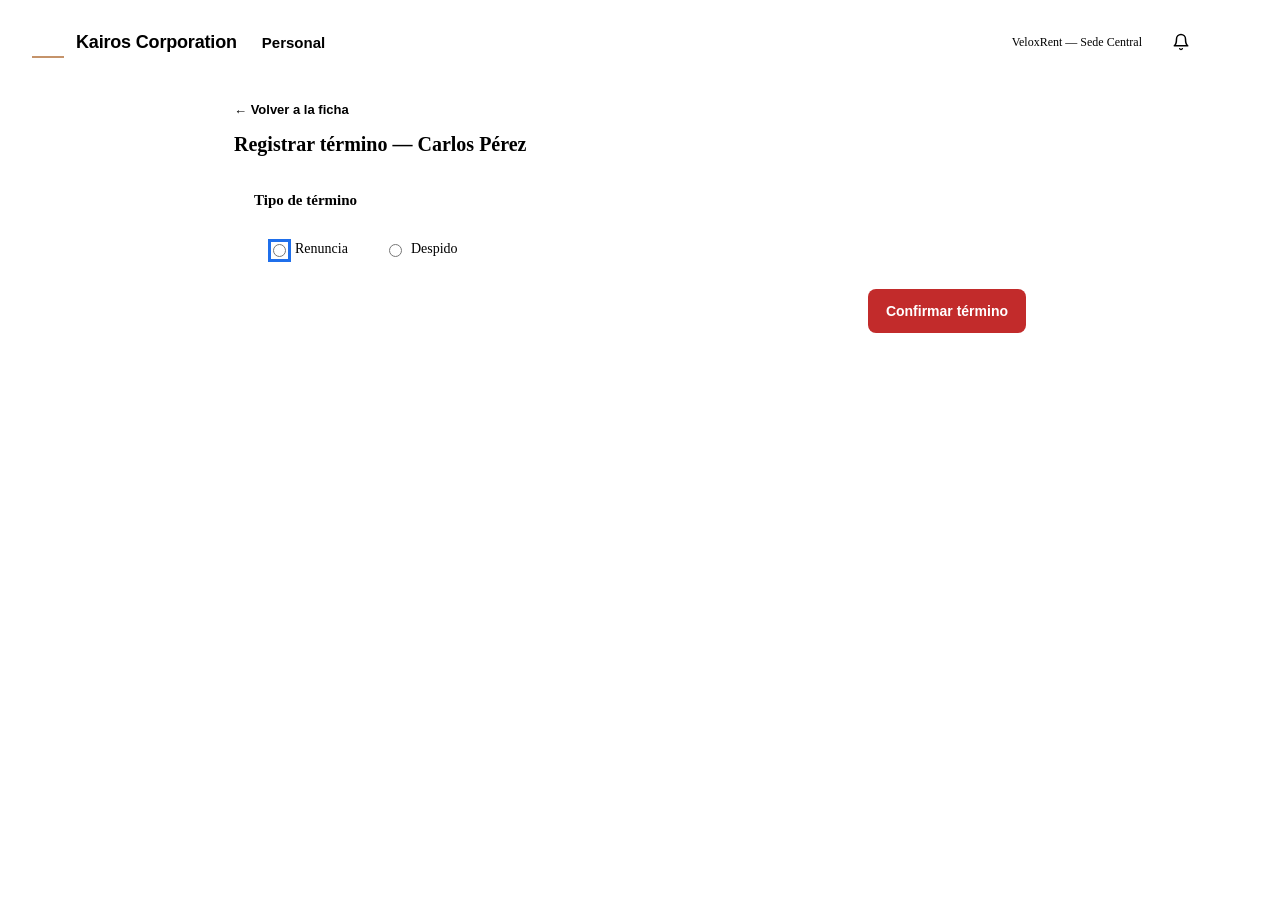
Administración de Personal - accesibilidad (axe) › ADP-09 formulario y confirmacion sin violaciones
Click the radio button labelled "Despido": (395, 250) [389,244,402,257]
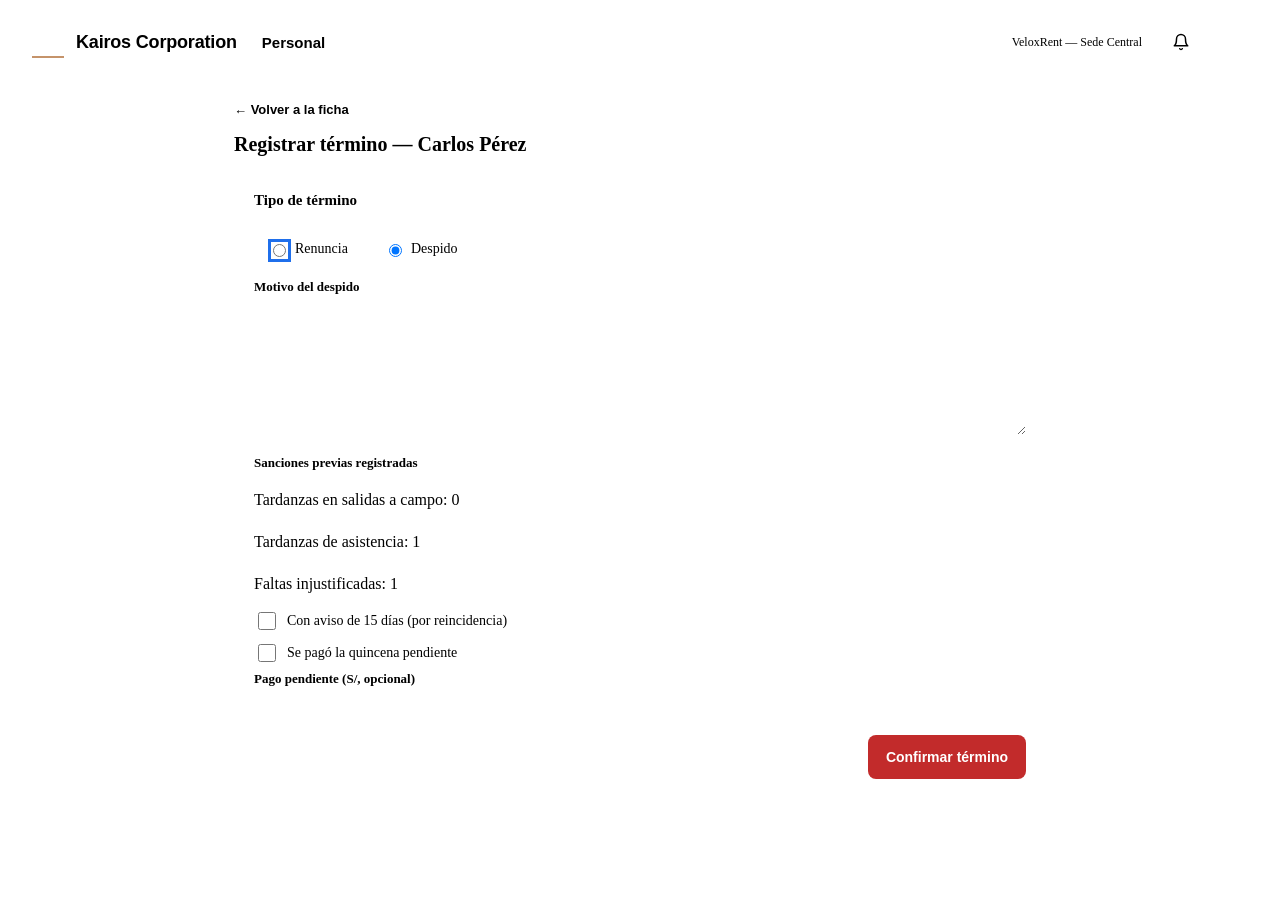
In the text box labelled "Motivo del despido": (640, 365) [254,295,1026,435], type "Reincidencia"
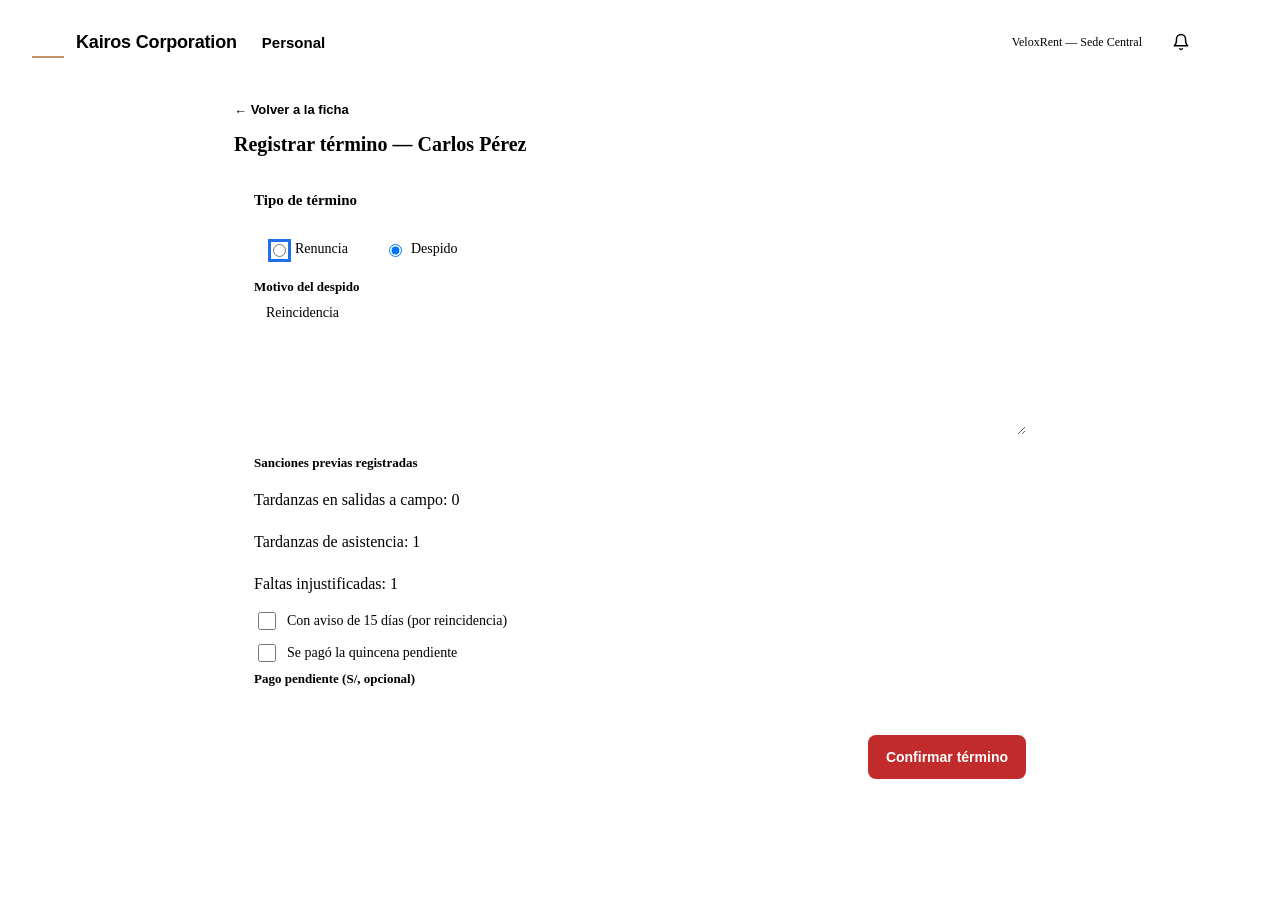
Click the button "Confirmar término": (947, 757) [868,735,1026,779]
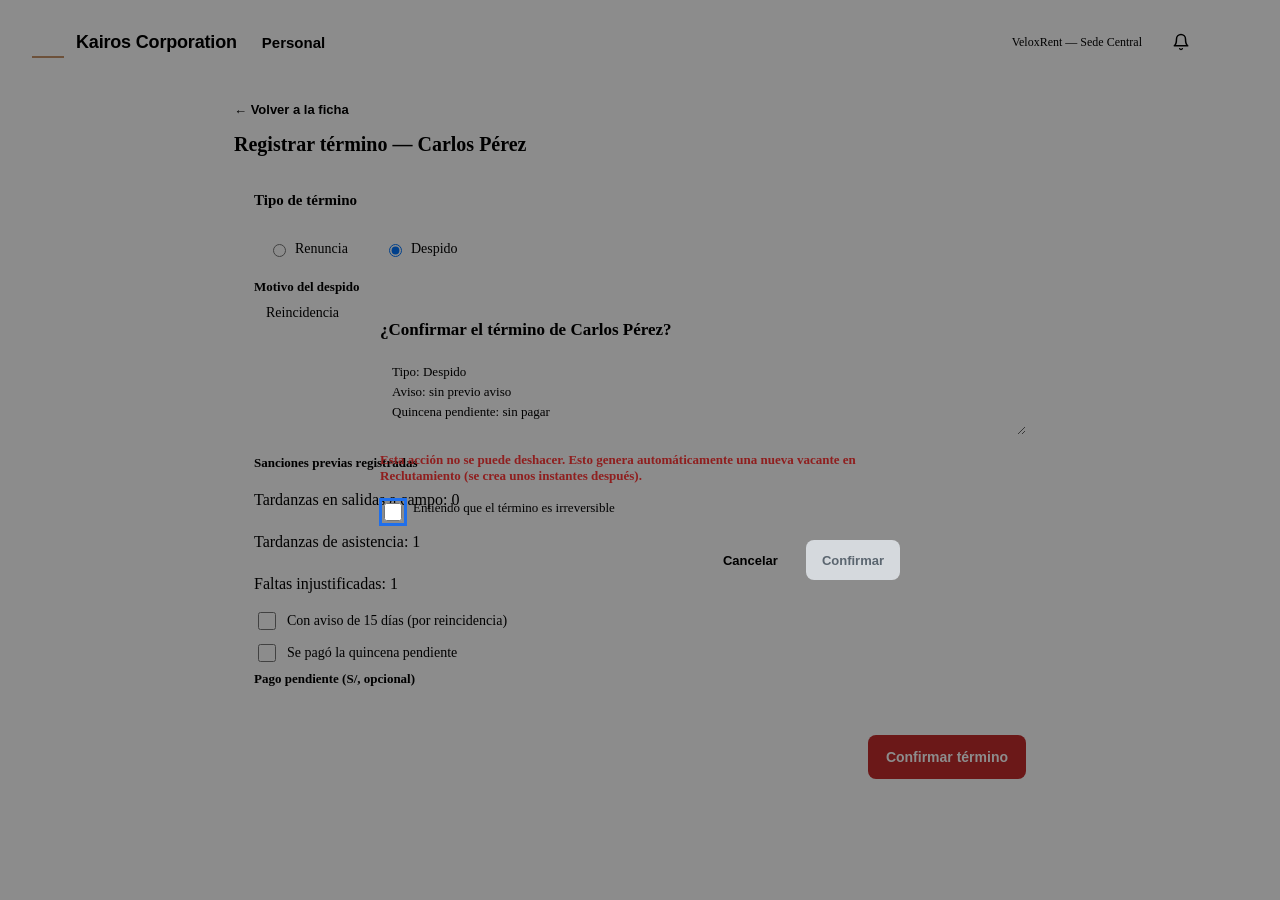
Check: the button "Confirmar" is shown, box [806,540,900,580]
